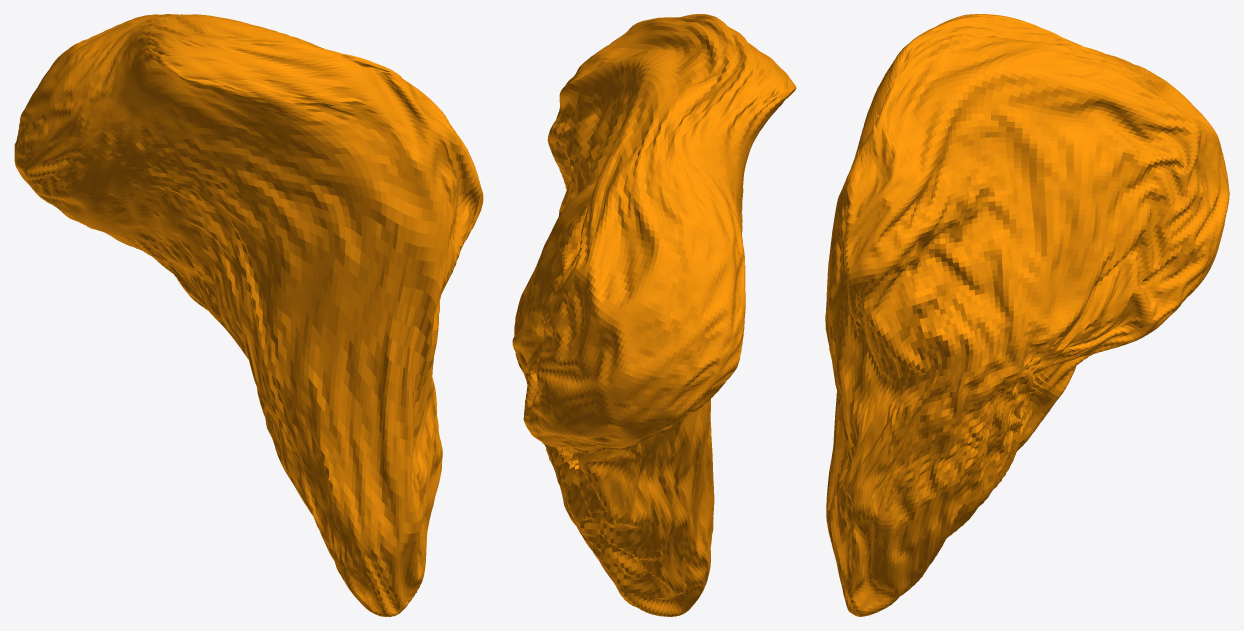
File: blobject2.glb
3 renders of one model, left to right at view 1: azimuth 30°, elevation 25°; view 2: azimuth 150°, elevation 25°; view 3: azimuth 270°, elevation 25°, orthographic. The views are drawn at different scales.
Parts seen in each view (by area): view 1: Quad Sphere; view 2: Quad Sphere; view 3: Quad Sphere.
Part boxes in pixels (<box>): Quad Sphere: <box>14,14,483,616</box>; Quad Sphere: <box>512,14,796,616</box>; Quad Sphere: <box>825,14,1229,616</box>.
Size of the model in its own units: 2.72 by 4.79 by 3.27.
